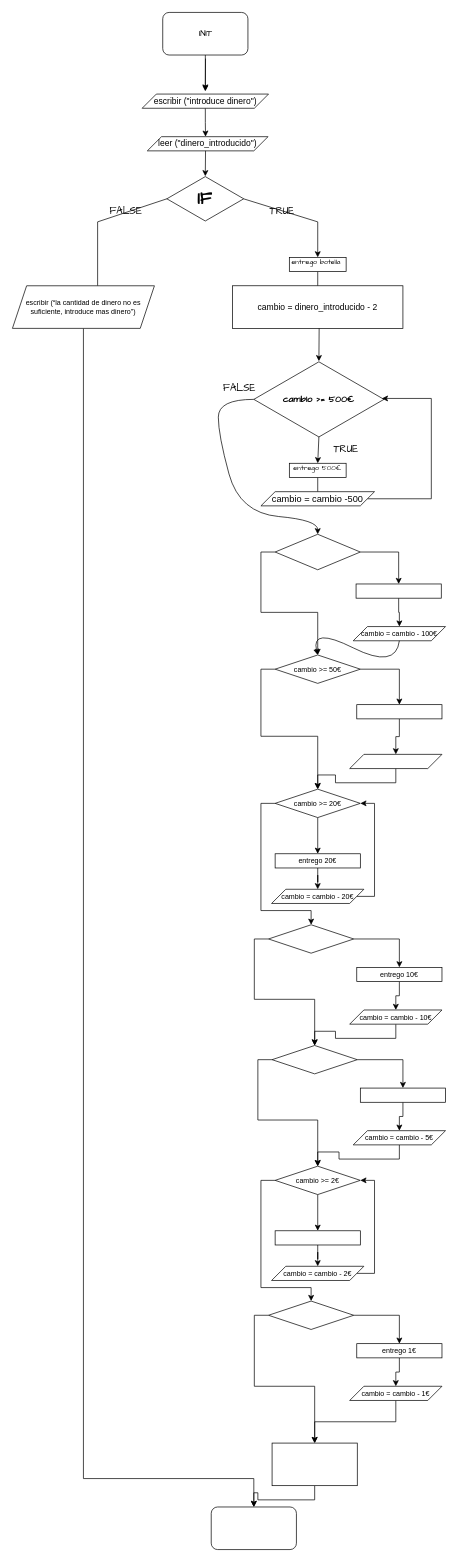
Some shapes in this 458 by 1562 pixel diagram are drawn without their labels. The shapes that lost their labels are listed below. From the top down, each one's box as (x1, y1, x2, y2) in pixels, then its label:
(274, 534, 360, 570): cambio >= 100
(355, 583, 441, 598): entrego 100€
(356, 704, 442, 719): entrego 50€
(349, 754, 442, 769): cambio = cambio - 50€
(268, 924, 354, 953): cambio >= 10€
(271, 1045, 357, 1074): cambio >= 5€
(360, 1087, 446, 1102): entrego 5€
(274, 1230, 360, 1245): entrego 2€
(268, 1300, 354, 1329): cambio >= 1€
(271, 1442, 357, 1486): leer(“gracias por su compra, recoja el cambio”)
(211, 1506, 296, 1550): END
